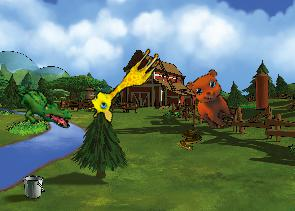bear: (179, 64, 247, 134)
crocodile: (11, 87, 74, 129)
giraffe: (83, 39, 164, 127)
